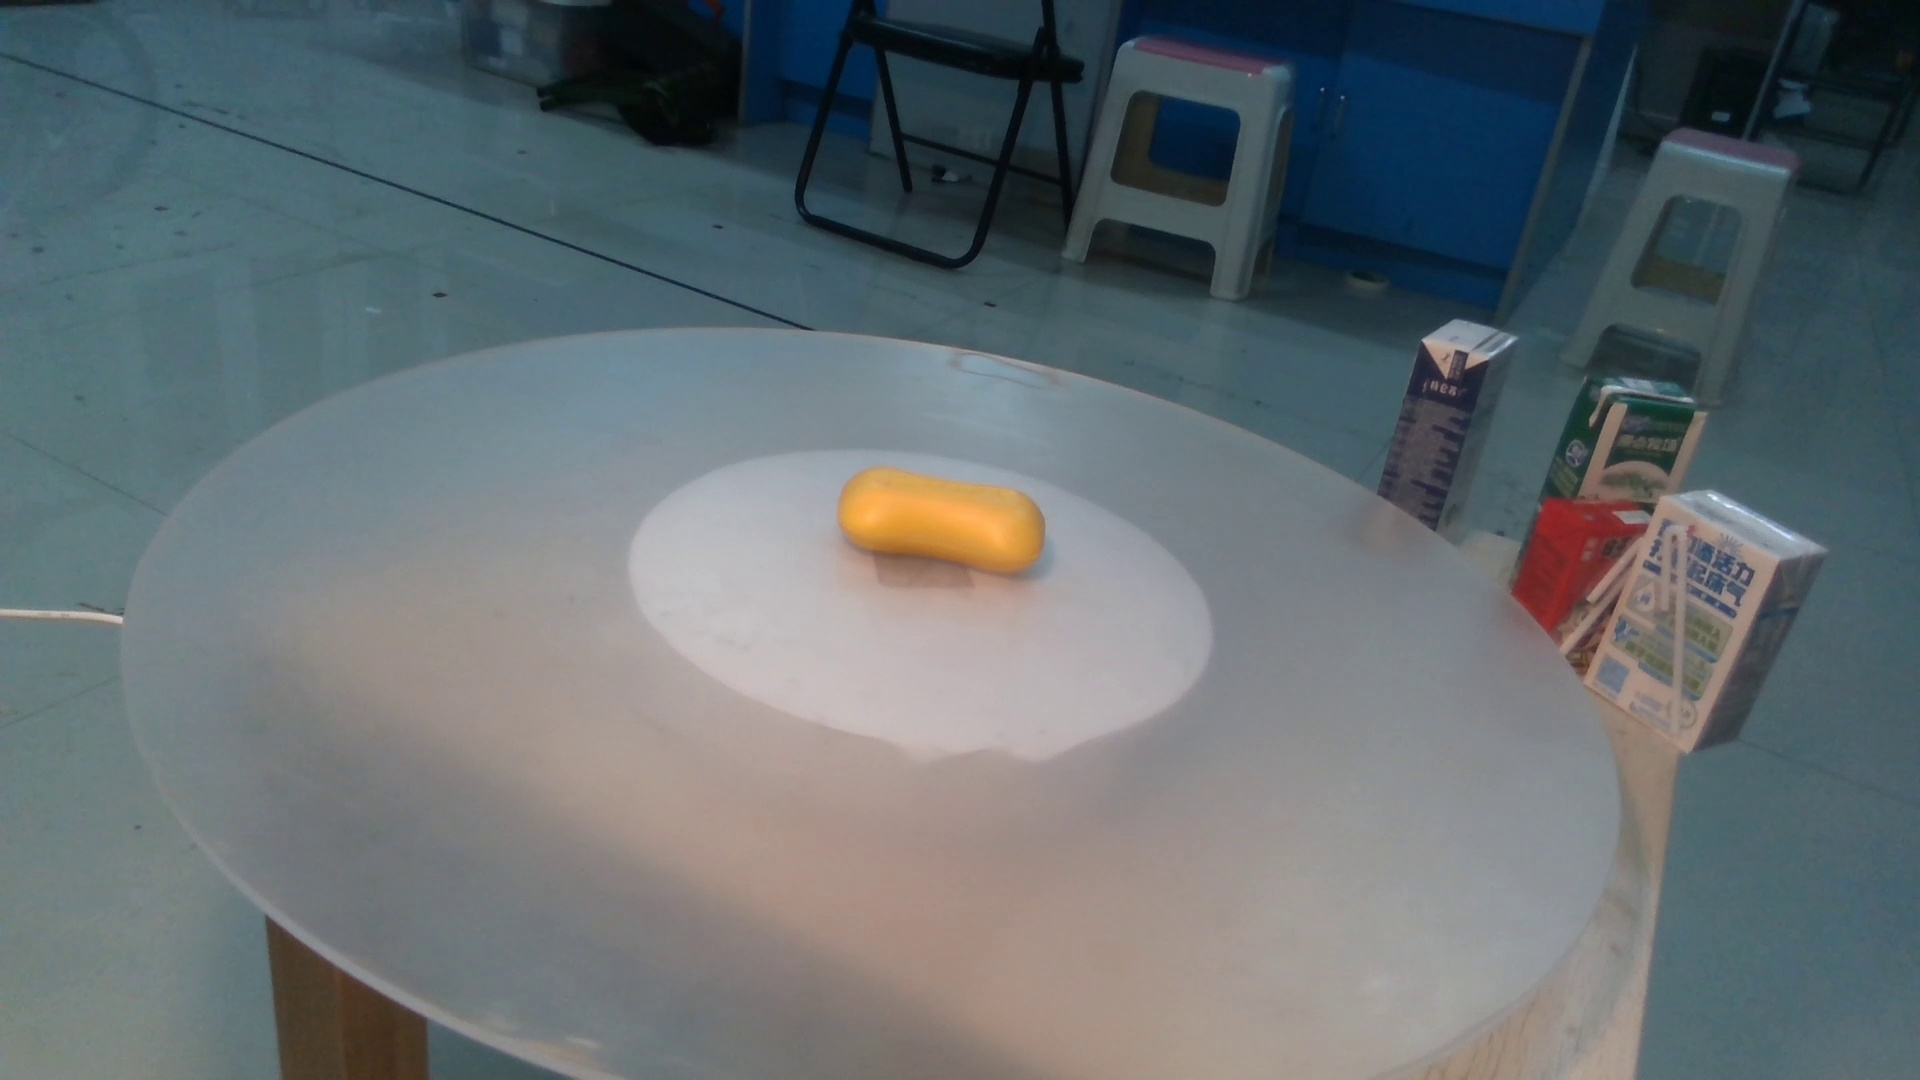CA003_1: (806, 440, 1088, 597)
